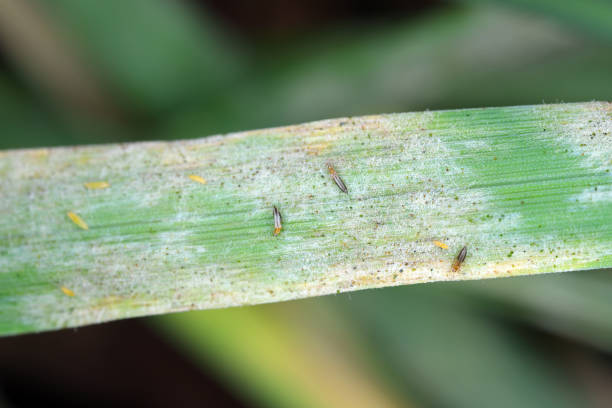Thrips: (424, 226, 478, 280), (261, 195, 296, 246), (319, 153, 355, 196)
